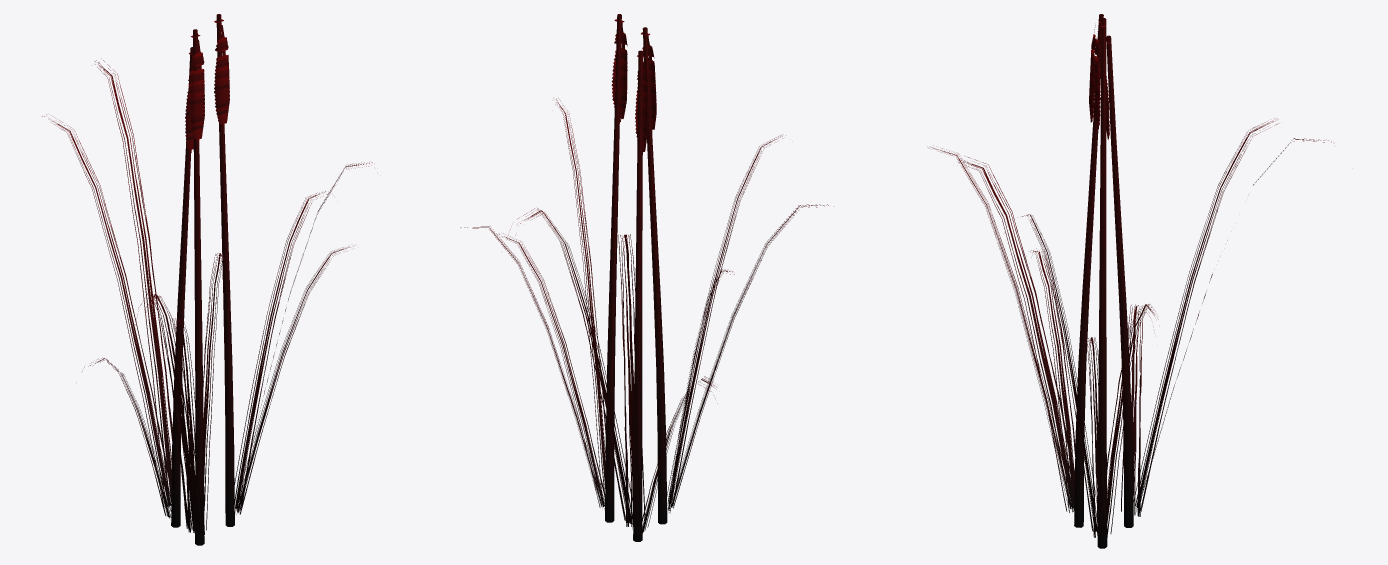
File: plant_swamp_cattail_a.glb
3 views of the same model, side by side, from view 1: azimuth 30°, elevation 25°; view 2: azimuth 150°, elevation 25°; view 3: azimuth 270°, elevation 25° (orthographic). The views are drawn at different scales.
Parts seen in each view (by area): view 1: plant_swamp_cattail_a; view 2: plant_swamp_cattail_a; view 3: plant_swamp_cattail_a.
Boxes of the visible parts, bbox=[...] form: plant_swamp_cattail_a: bbox=[42, 14, 372, 545]; plant_swamp_cattail_a: bbox=[460, 14, 828, 541]; plant_swamp_cattail_a: bbox=[931, 14, 1331, 548].
Size of the model in its own units: 0.9698 by 1.44 by 1.19.
1 material, 1 textured.
